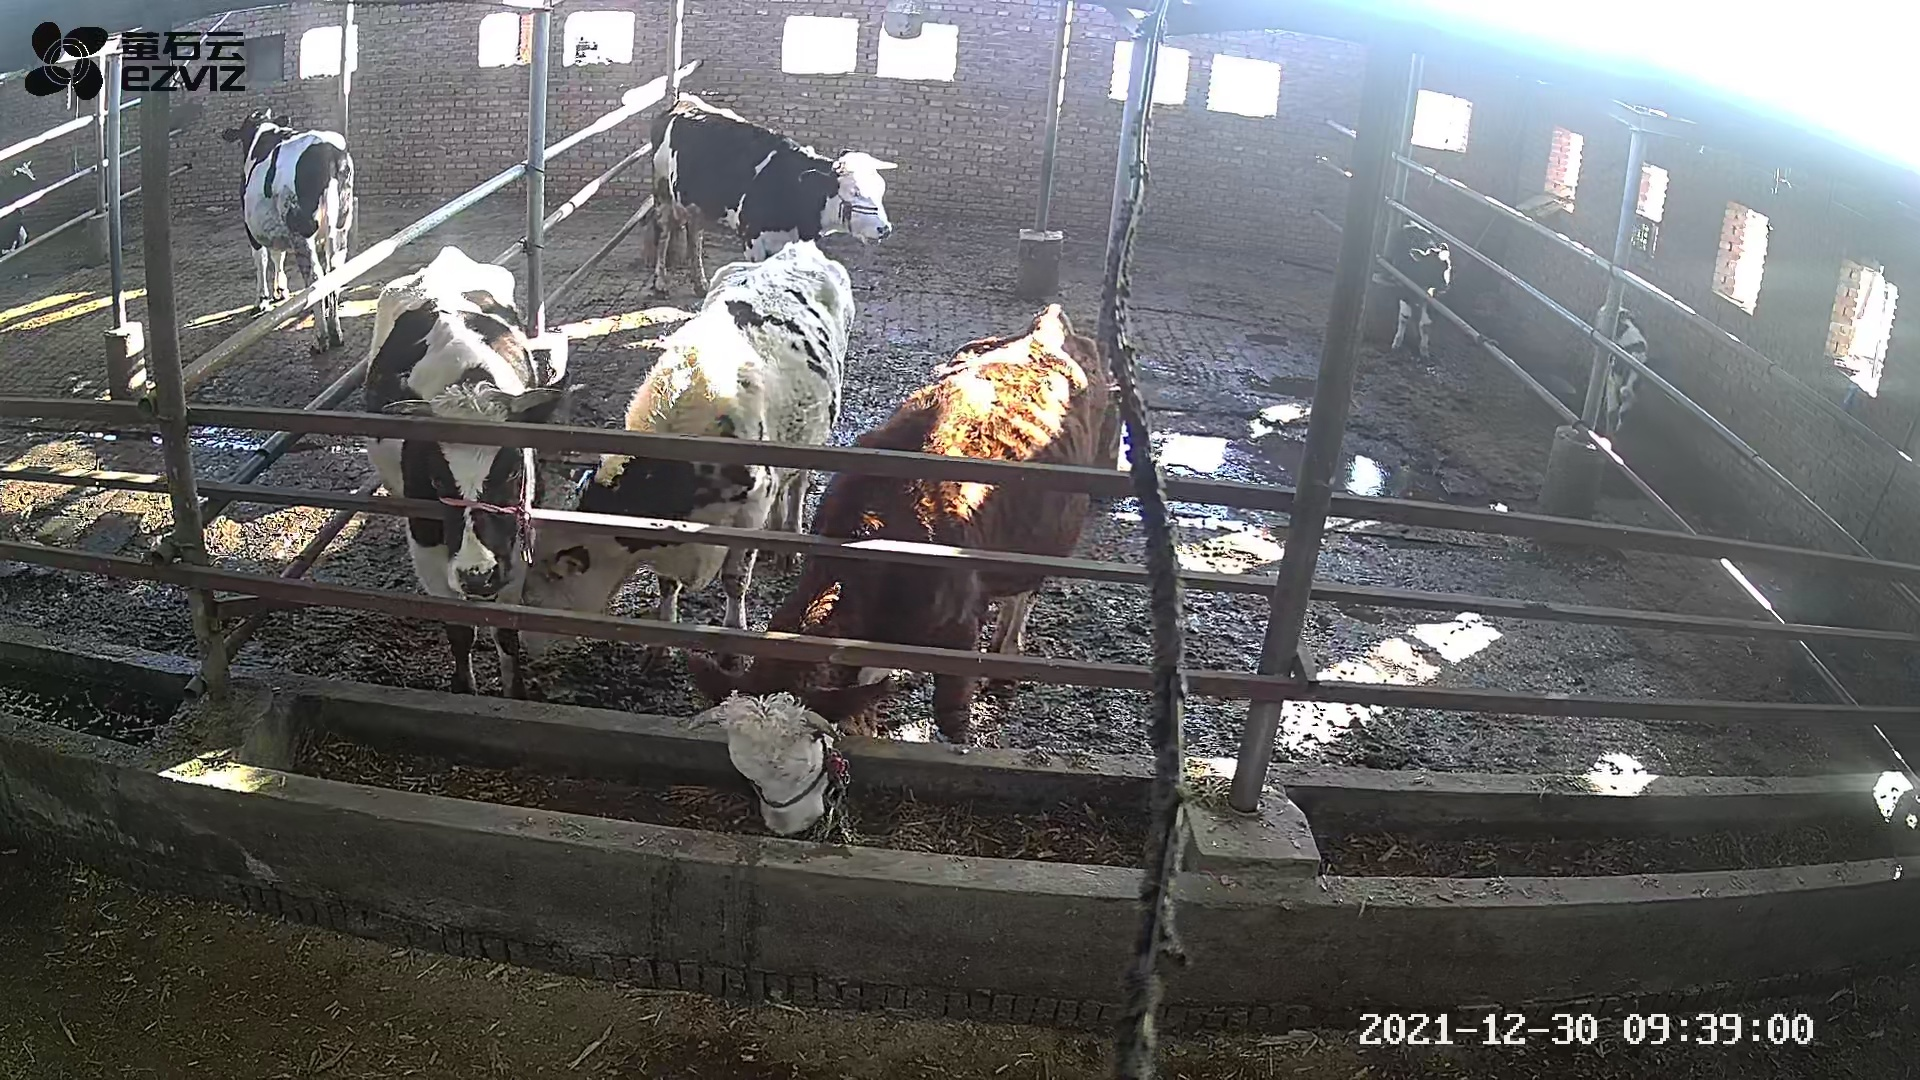cow: (682, 302, 1109, 837), (518, 236, 856, 661), (356, 243, 564, 702), (647, 91, 899, 295)
